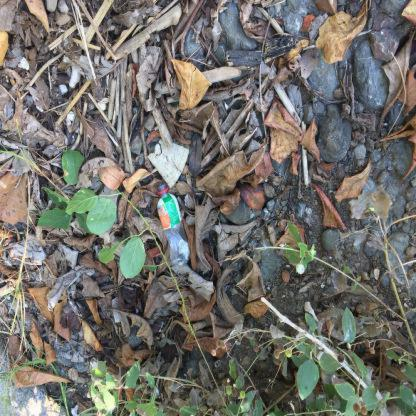Bottle cap: (157, 183, 190, 266)
Styrofoam piece: (148, 139, 189, 189), (17, 57, 29, 70), (59, 85, 68, 95), (36, 106, 43, 112)
